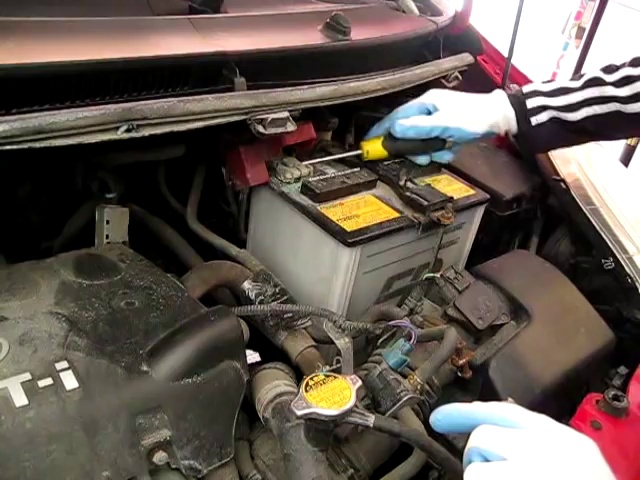battery: (234, 134, 494, 253)
pos_connected: (234, 129, 319, 191)
